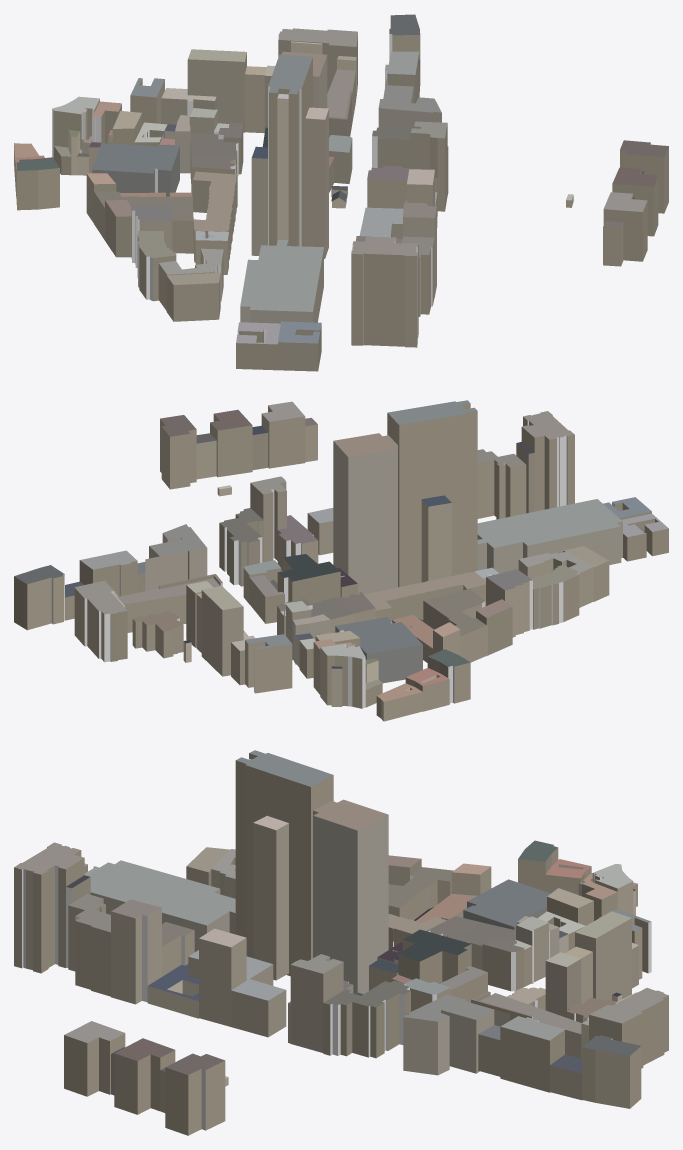
3 renders of one model, top to bottom at view 1: azimuth 30°, elevation 25°; view 2: azimuth 150°, elevation 25°; view 3: azimuth 270°, elevation 25°, orthographic. The views are drawn at different scales.
Visible parts, largest first — view 1: tuile; view 2: tuile; view 3: tuile.
Boxes of the visible parts, x1,y1,x2,y2 form: tuile: [14, 14, 668, 371]; tuile: [14, 400, 668, 721]; tuile: [14, 750, 668, 1135].
Bounding box in the file's own units: 256 × 92.19 × 274.
